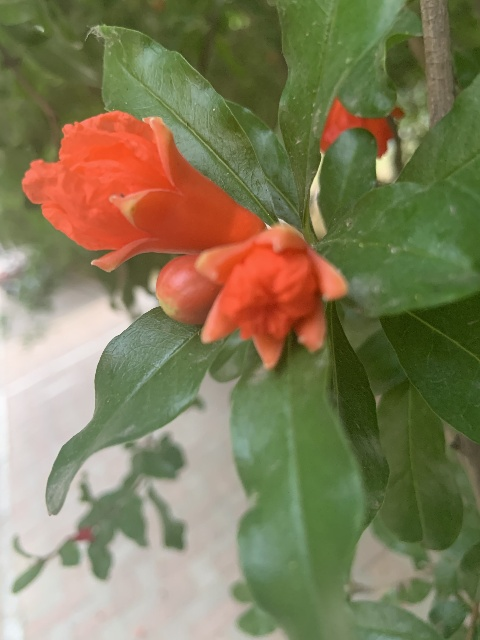bud: (156, 254, 226, 325)
flower: (22, 110, 267, 273), (197, 225, 345, 368)
